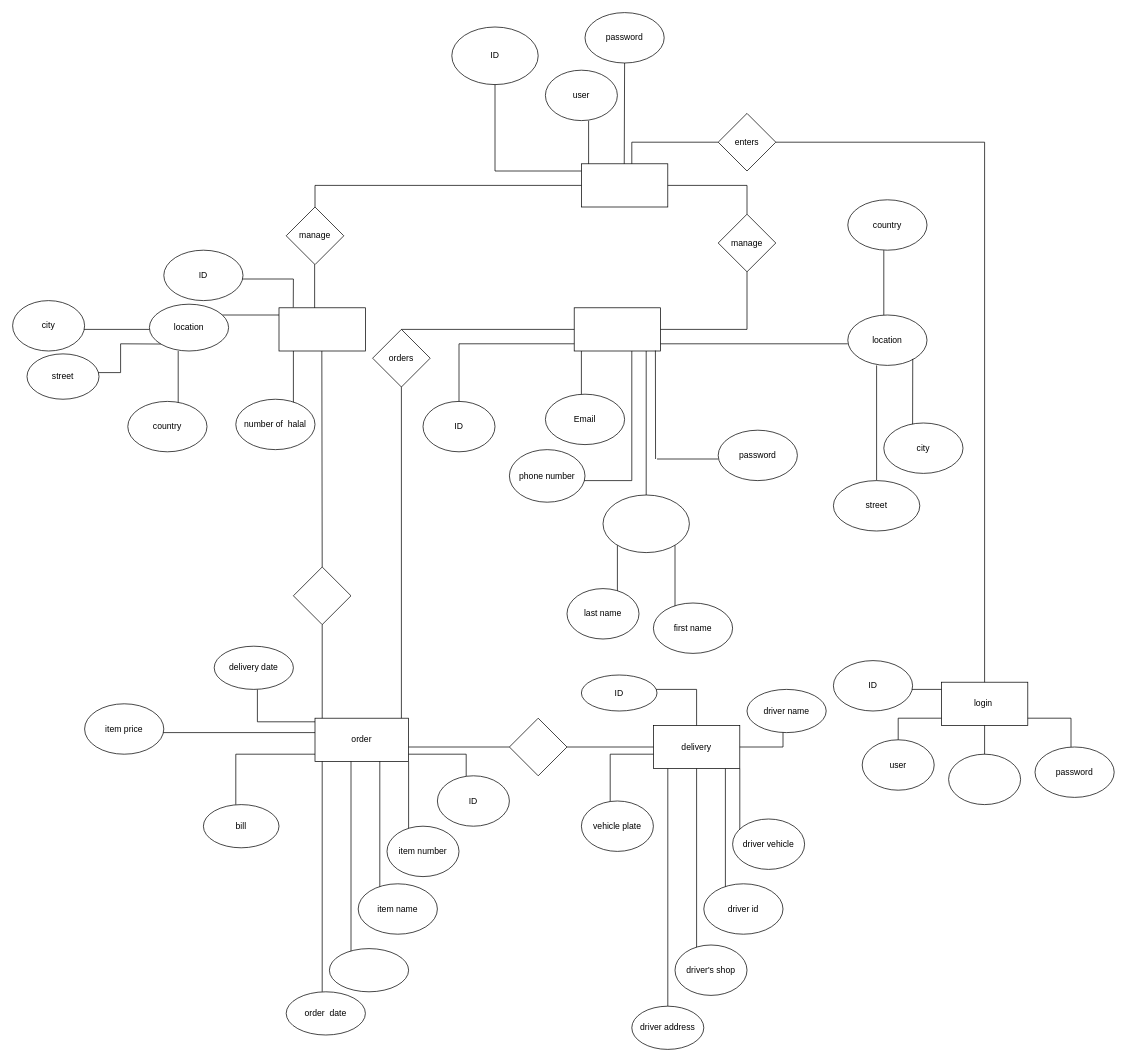
Image size: 1127x1062. Some labels were removed from this diagram. The shapes that lost their labels are listed below. From the top down, each one's centre as x and y in pixels, then its label:
At point 624,185: "admin".
At point 321,329: "shops".
At point 617,329: "customer".
At point 645,523: "name".
At point 322,595: "provide".
At point 538,746: "deliver".
At point 984,779: "user name".
At point 369,970: "quantity".
